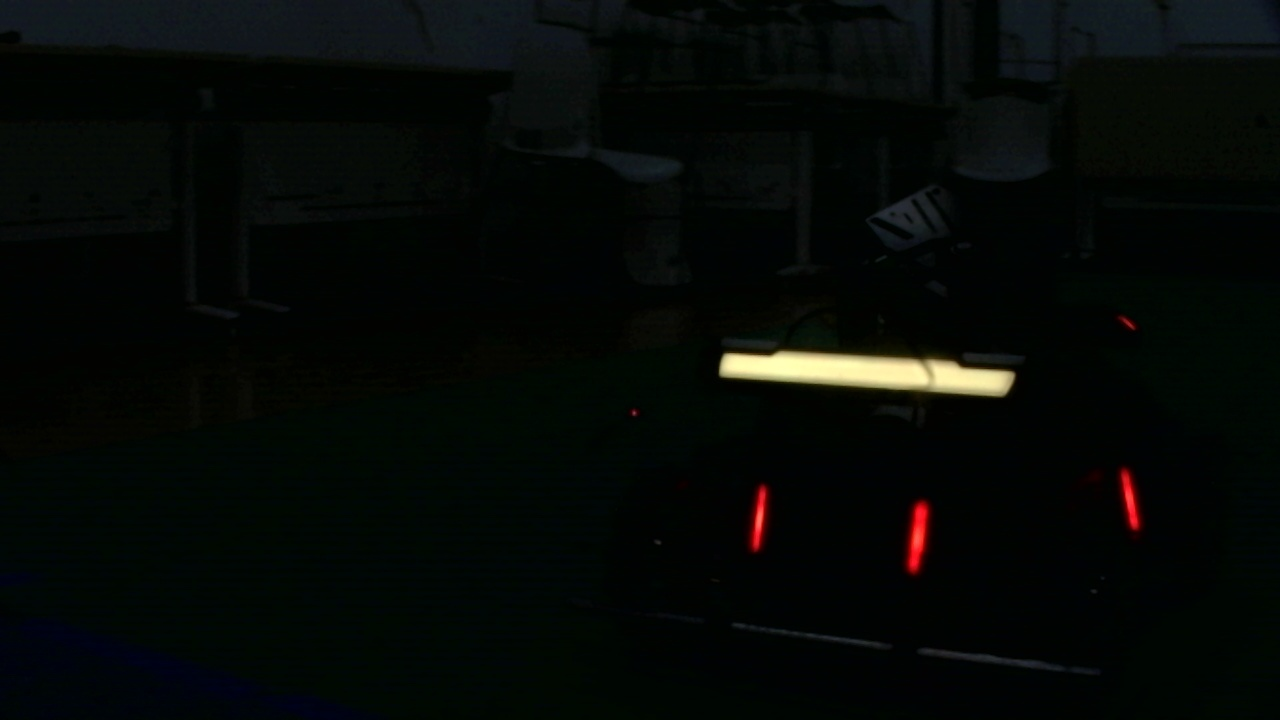lamp: (1117, 458, 1140, 528), (909, 500, 924, 573), (752, 480, 766, 551)
notpair1: (906, 462, 1139, 575)
pair1: (752, 490, 929, 577)
